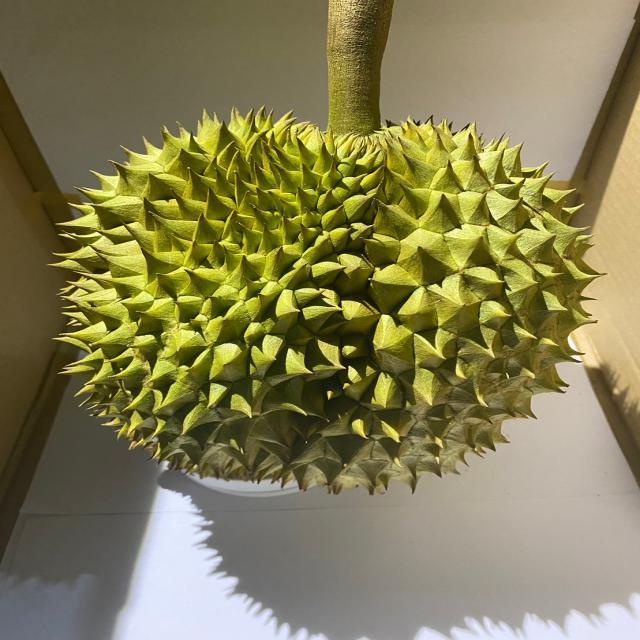immature: (49, 106, 603, 496)
